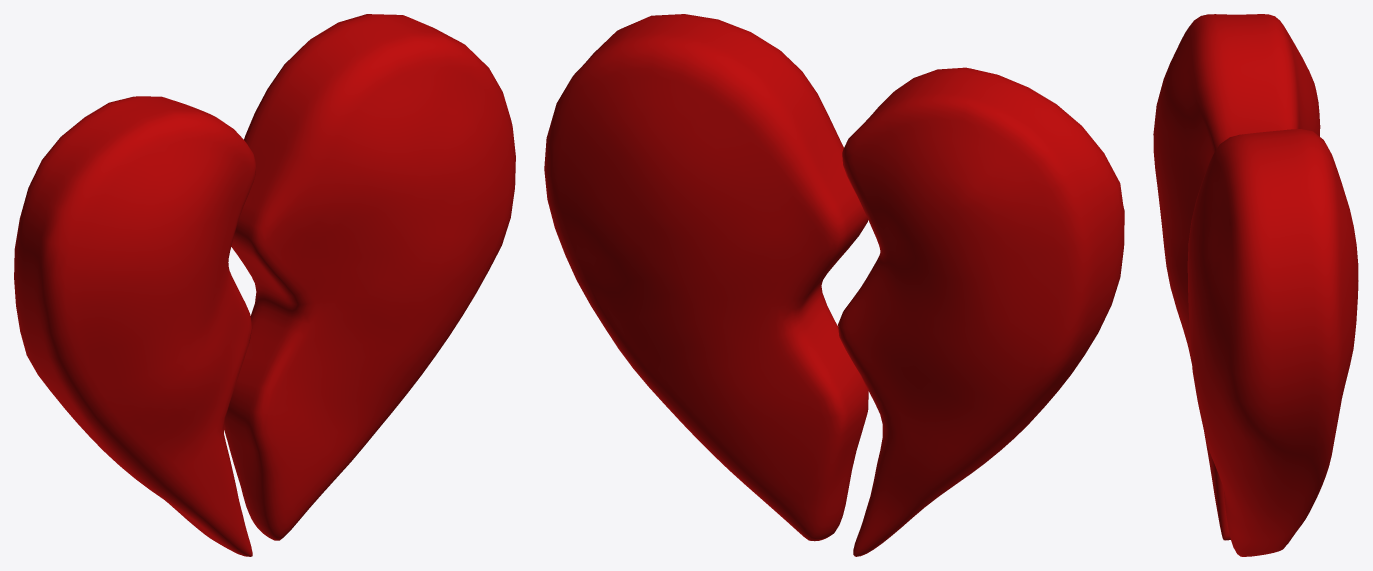
The model's file is broken-heart.FBX.
3 views of the same model, side by side, from view 1: azimuth 30°, elevation 25°; view 2: azimuth 150°, elevation 25°; view 3: azimuth 270°, elevation 25° (orthographic). The views are drawn at different scales.
Parts seen in each view (by area): view 1: Group55568, Group43974; view 2: Group55568, Group43974; view 3: Group55568, Group43974.
Boxes of the visible parts, bbox=[...] form: Group55568: bbox=[223, 14, 515, 540]; Group43974: bbox=[14, 96, 256, 556]; Group55568: bbox=[544, 14, 868, 541]; Group43974: bbox=[838, 67, 1124, 556]; Group55568: bbox=[1187, 129, 1358, 556]; Group43974: bbox=[1153, 14, 1320, 540].
Size of the model in its own units: 22.98 by 20.65 by 8.15.
